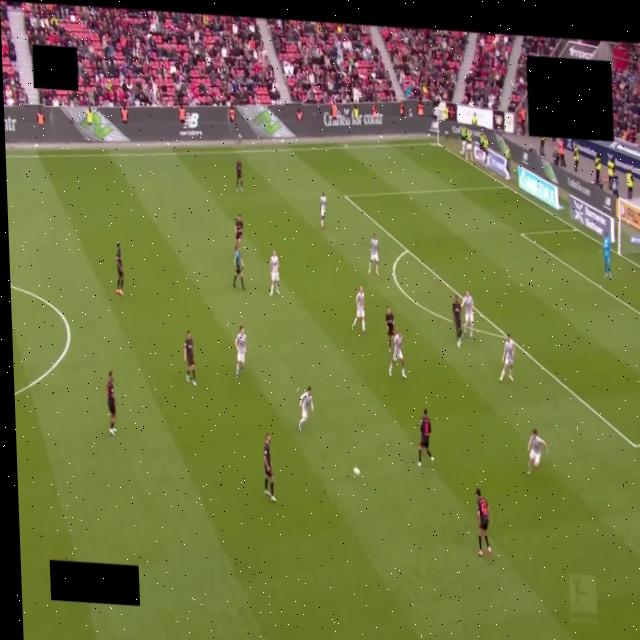ball: (354, 468, 360, 477)
player: (476, 488, 491, 557), (263, 433, 276, 502), (527, 430, 547, 474), (418, 409, 433, 466), (389, 332, 406, 378), (499, 335, 515, 382), (183, 331, 196, 386), (106, 371, 116, 435), (235, 327, 247, 378), (299, 387, 313, 430), (352, 287, 364, 333), (463, 291, 474, 340), (452, 295, 461, 347), (602, 232, 612, 278), (368, 234, 379, 275), (270, 251, 279, 296), (386, 307, 395, 351), (116, 243, 123, 295), (235, 159, 243, 191), (320, 192, 326, 229), (236, 215, 243, 242)
referee: (233, 247, 244, 290)
